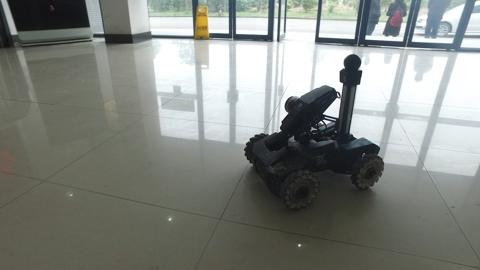chariot: (243, 53, 385, 211)
